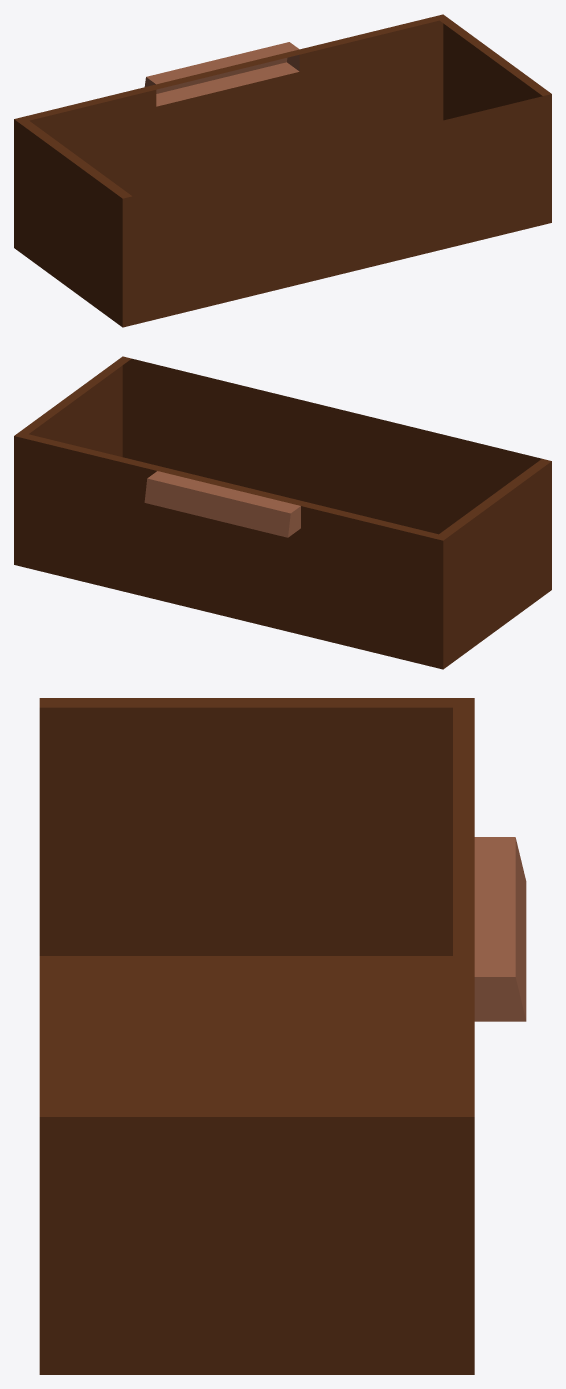
The model's file is animatedDrawer2C1.obj.
3 views of the same model, one above another, from view 1: azimuth 30°, elevation 25°; view 2: azimuth 150°, elevation 25°; view 3: azimuth 270°, elevation 25° (orthographic). The views are drawn at different scales.
Visible parts, largest first — view 1: Cubo.008_Cubo.011; view 2: Cubo.008_Cubo.011; view 3: Cubo.008_Cubo.011.
Boxes of the visible parts, x1,y1,x2,y2 form: Cubo.008_Cubo.011: (14, 14, 551, 327); Cubo.008_Cubo.011: (14, 356, 551, 669); Cubo.008_Cubo.011: (39, 698, 526, 1374).
Bounding box in the file's own units: 28.36 × 8.14 × 13.93.
2 materials, 2 textured.
